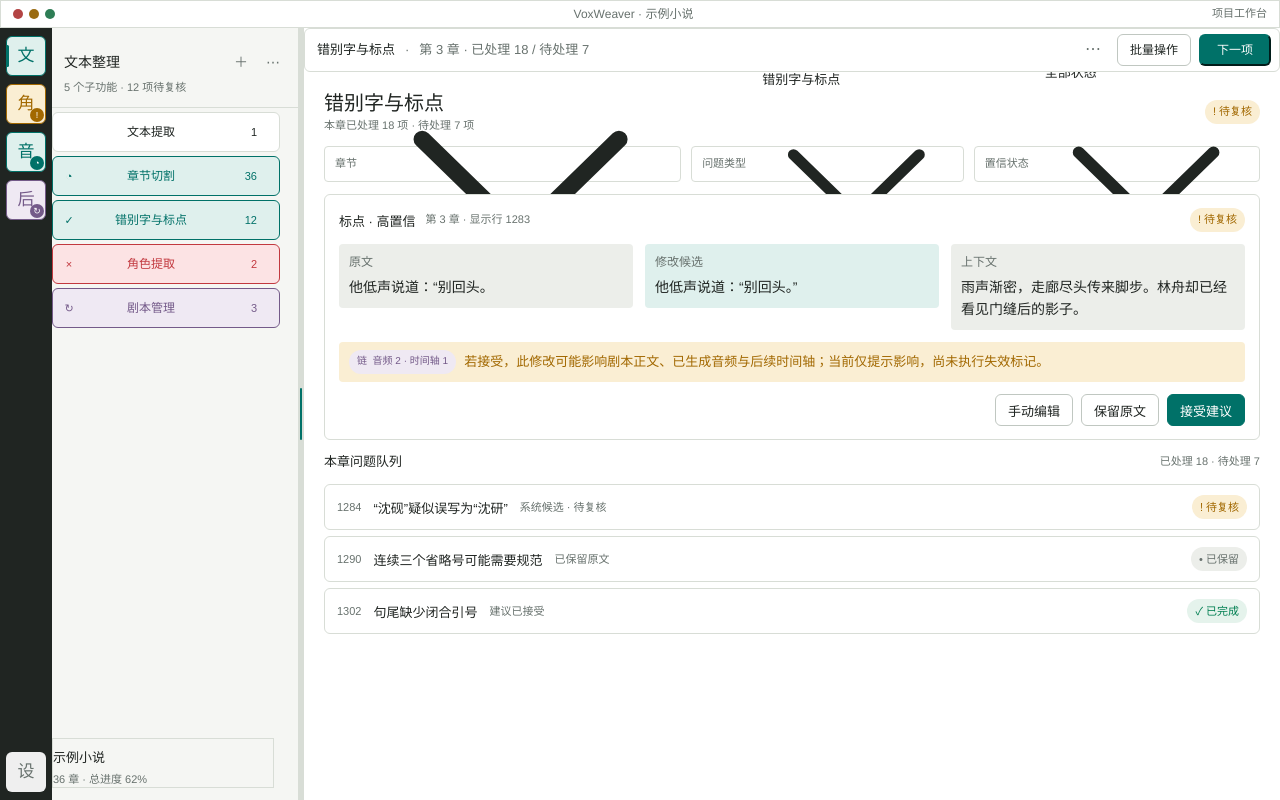
Test: text demo local interactions › 校对接受和保留只更新当前问题状态与计数
This screenshot has width=1280, height=800.
Click the button with test id "accept-proofreading-suggestion" at point(1206, 410), box [1167,394,1245,426]
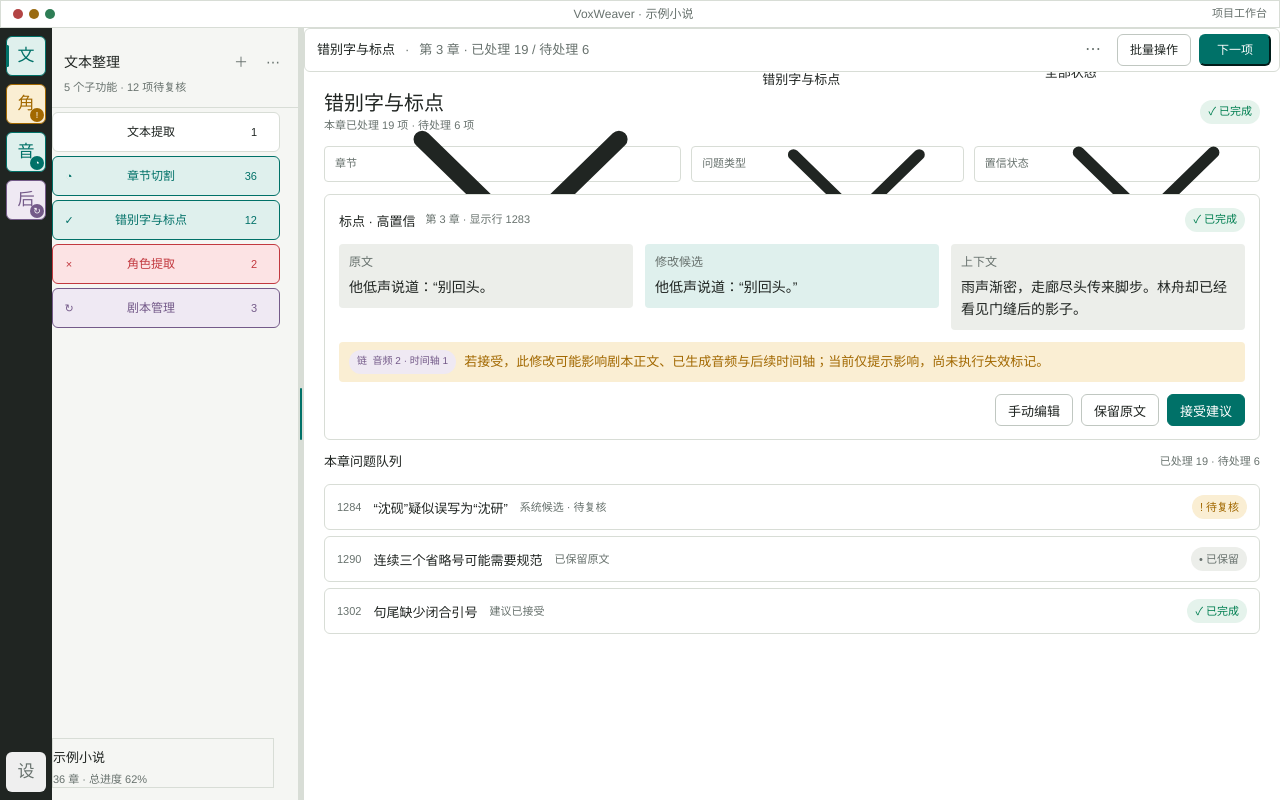
expect the element with test id "current-proofreading-issue" shows "已完成": met, box [1193,214,1237,226]
expect the text "已处理 19" is shown: met, box [419,42,589,57]
Click the button with test id "next-proofreading-issue" at point(1235, 50), box [1199,34,1271,66]
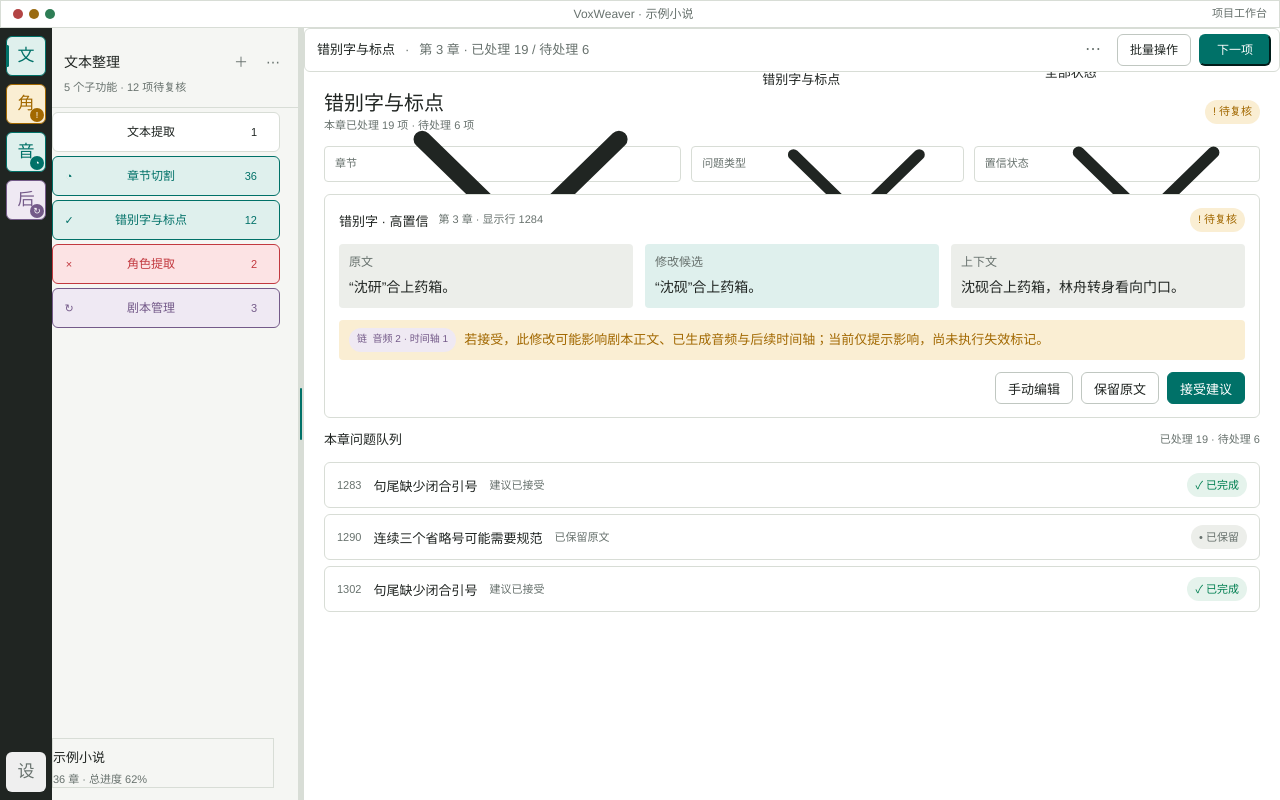
Click the button with test id "keep-proofreading-original" at point(1120, 388), box [1081,372,1159,404]
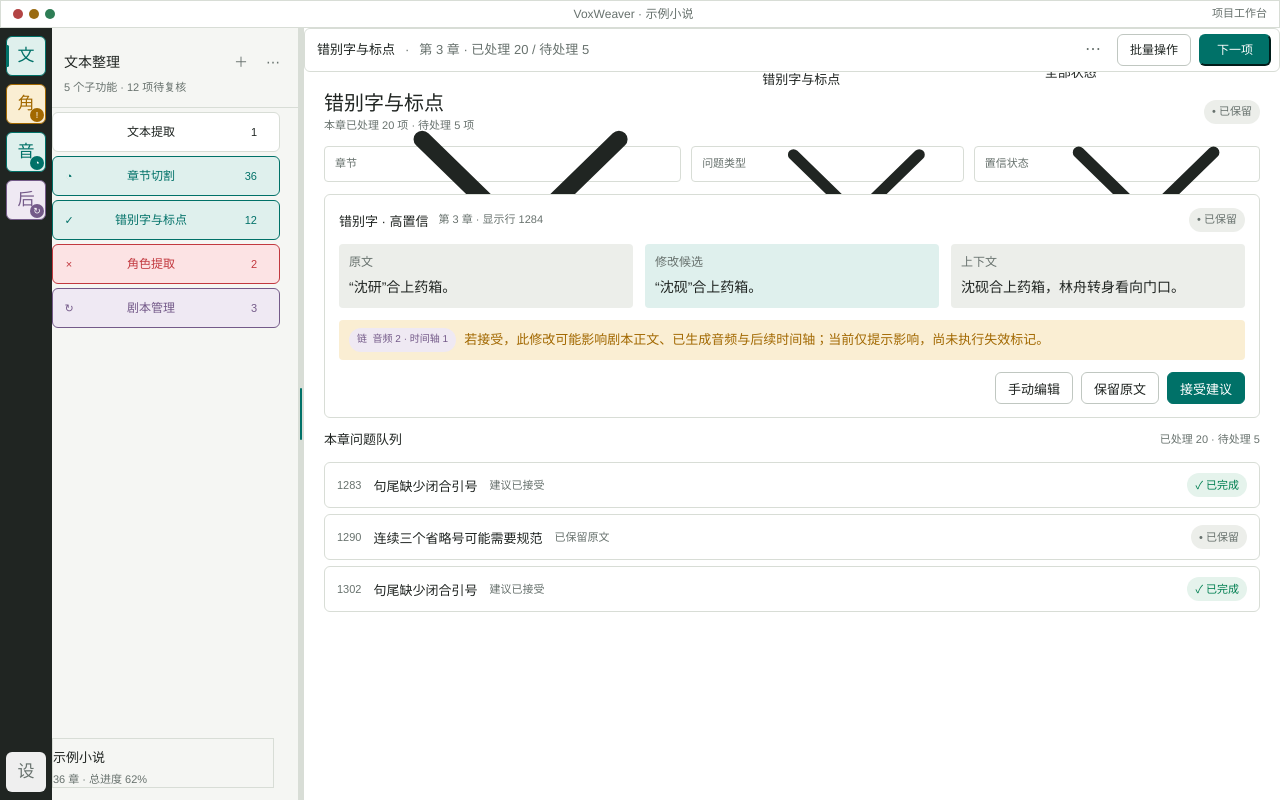
expect the element with test id "current-proofreading-issue" shows "已保留": met, box [1197,214,1237,226]
expect the text "已处理 20" is shown: met, box [419,42,589,57]
